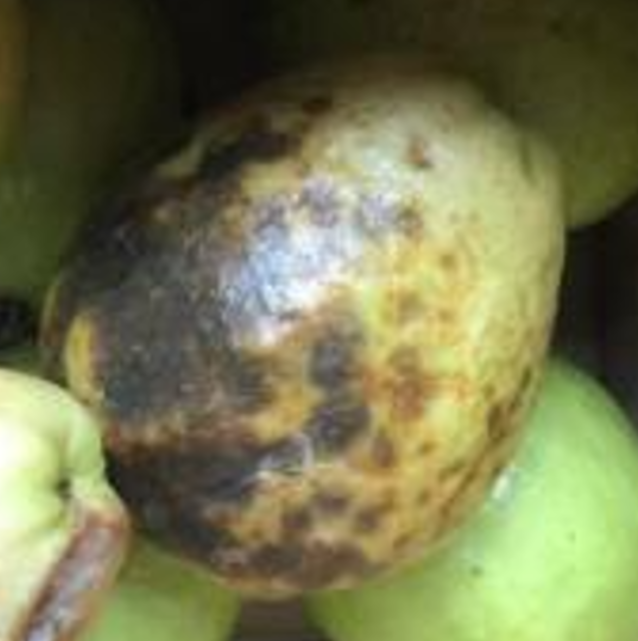guava_C: (33, 53, 566, 596)
